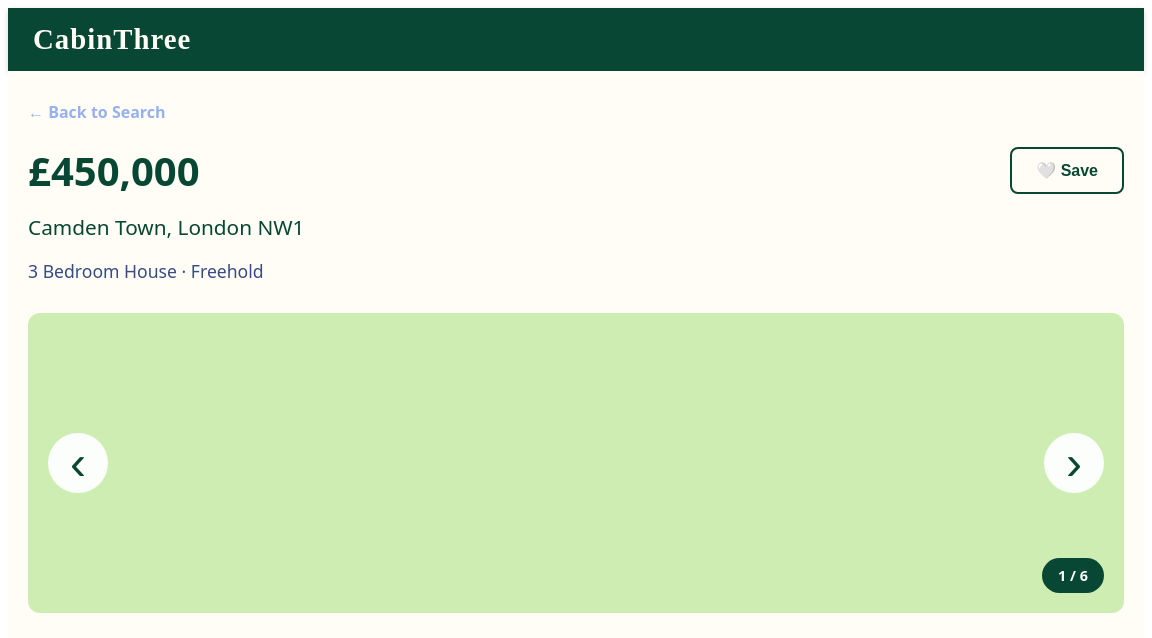
Scenario: PropertyPage - Essential Tests › navigates between images when clicking buttons
expect the text "1 / 6" is shown: met, box x1=1042 y1=558 x2=1104 y2=593
Click the button named "Next image". click: point(1074, 463)
box: x1=1044 y1=433 x2=1104 y2=493
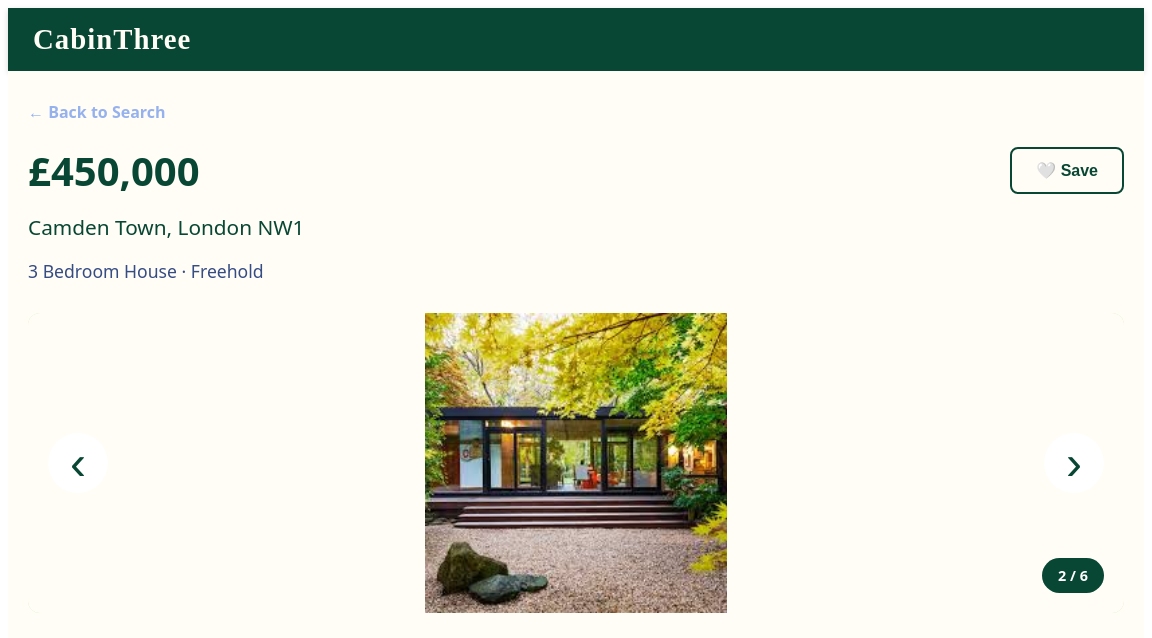
expect the text "2 / 6" is shown: met, box x1=1042 y1=558 x2=1104 y2=593
